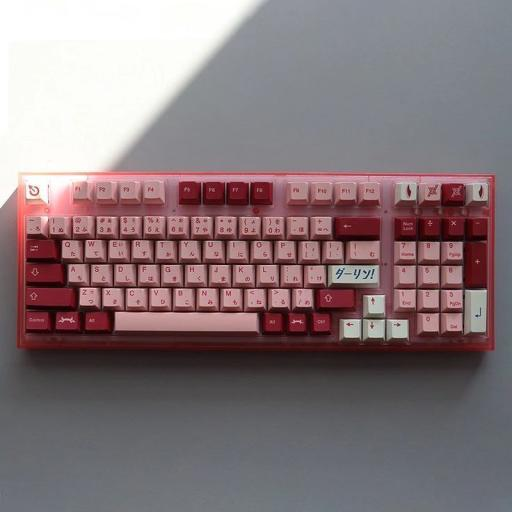KEYBOARD-2: (21, 164, 499, 362)
